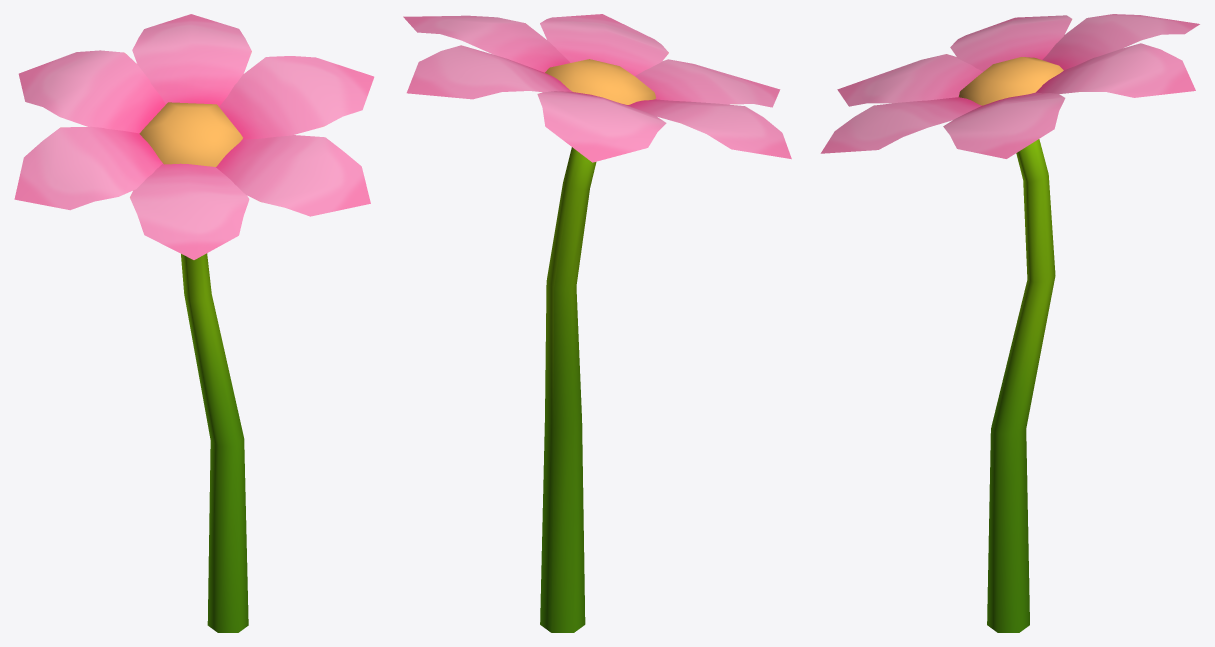
Rendered from flower_pink.glb.
The picture shows the model from 3 angles, left to right: view 1: azimuth 30°, elevation 25°; view 2: azimuth 150°, elevation 25°; view 3: azimuth 270°, elevation 25°; orthographic projection. The views are drawn at different scales.
Visible parts, largest first — view 1: blume; view 2: blume; view 3: blume.
Boxes of the visible parts, x1,y1,x2,y2 form: blume: (14,14,374,632); blume: (403,14,791,632); blume: (820,14,1199,632).
Size of the model in its own units: 1.7 by 2.48 by 1.49.
1 material, 1 textured.
